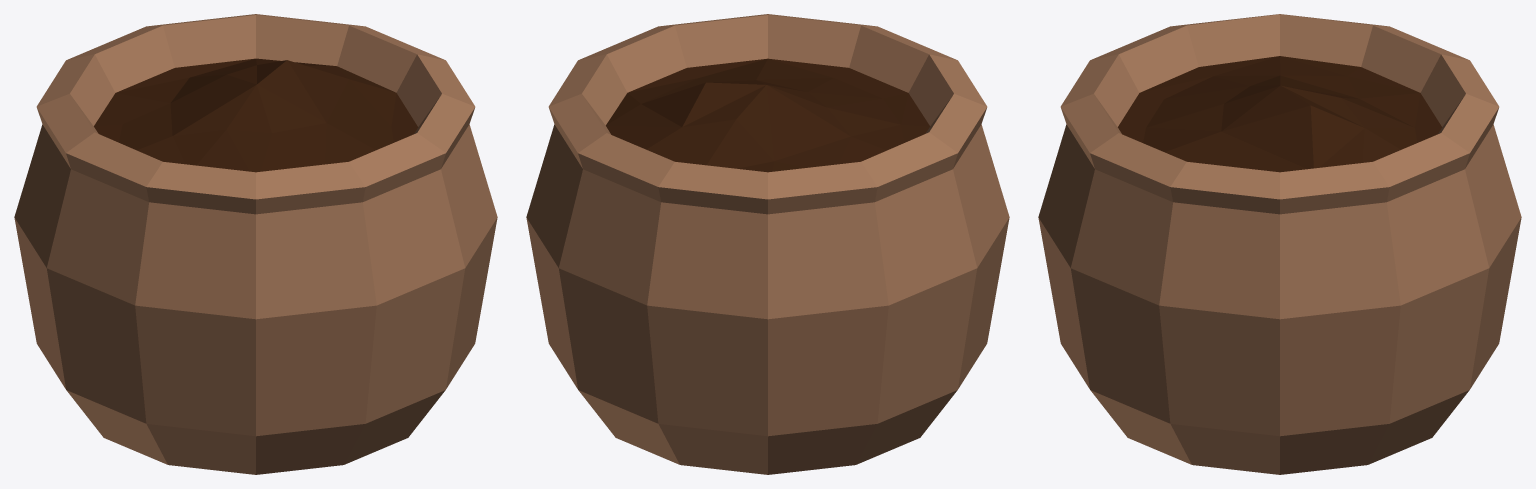
File: PlantPot1.glb
3 renders of one model, left to right at view 1: azimuth 30°, elevation 25°; view 2: azimuth 150°, elevation 25°; view 3: azimuth 270°, elevation 25°, orthographic.
Visible parts, largest first — view 1: PlantPot1; view 2: PlantPot1; view 3: PlantPot1.
Part boxes in pixels (box(x1,y1,x2,y2)): PlantPot1: box(14, 14, 497, 474); PlantPot1: box(526, 14, 1009, 474); PlantPot1: box(1038, 14, 1521, 474).
Size of the model in its own units: 0.6617 by 0.4804 by 0.6617.
